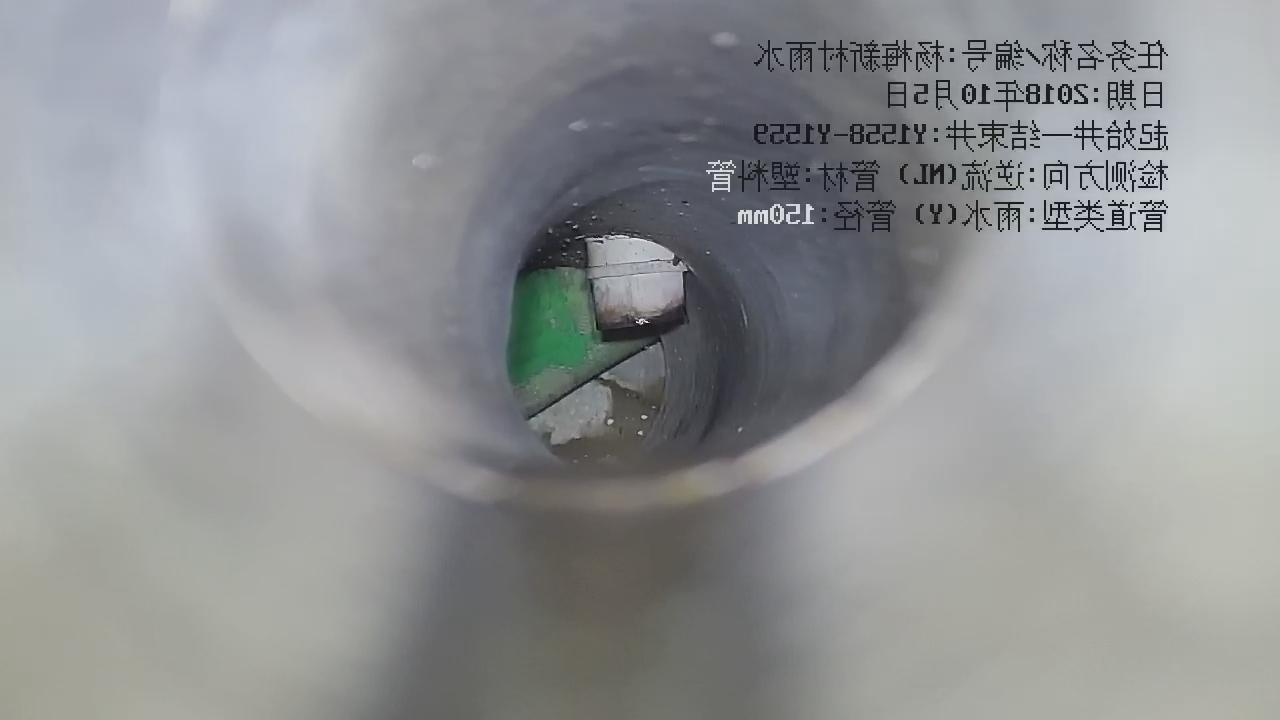YWCR: (508, 267, 656, 416)
ZGAJ: (586, 235, 689, 341)
